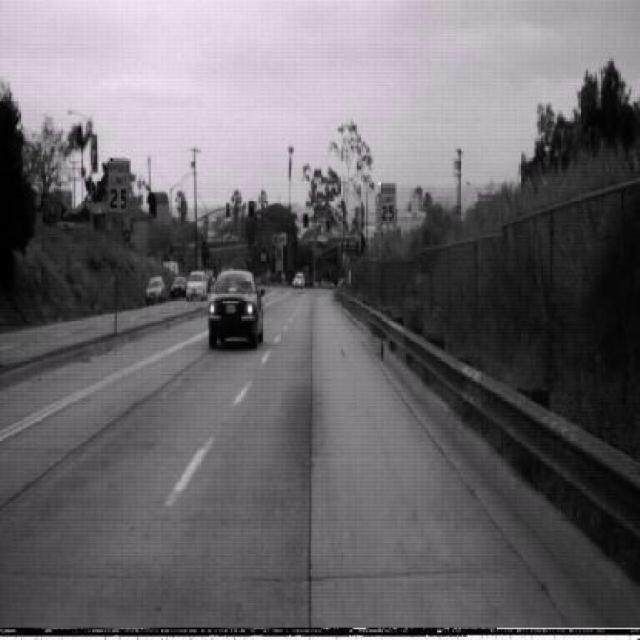speedLimit25: (106, 157, 130, 213), (378, 180, 397, 224)
